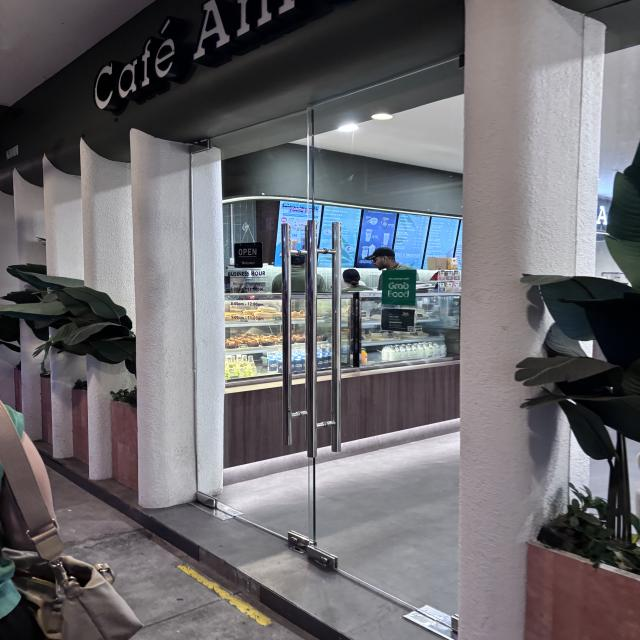door: (176, 40, 475, 634)
